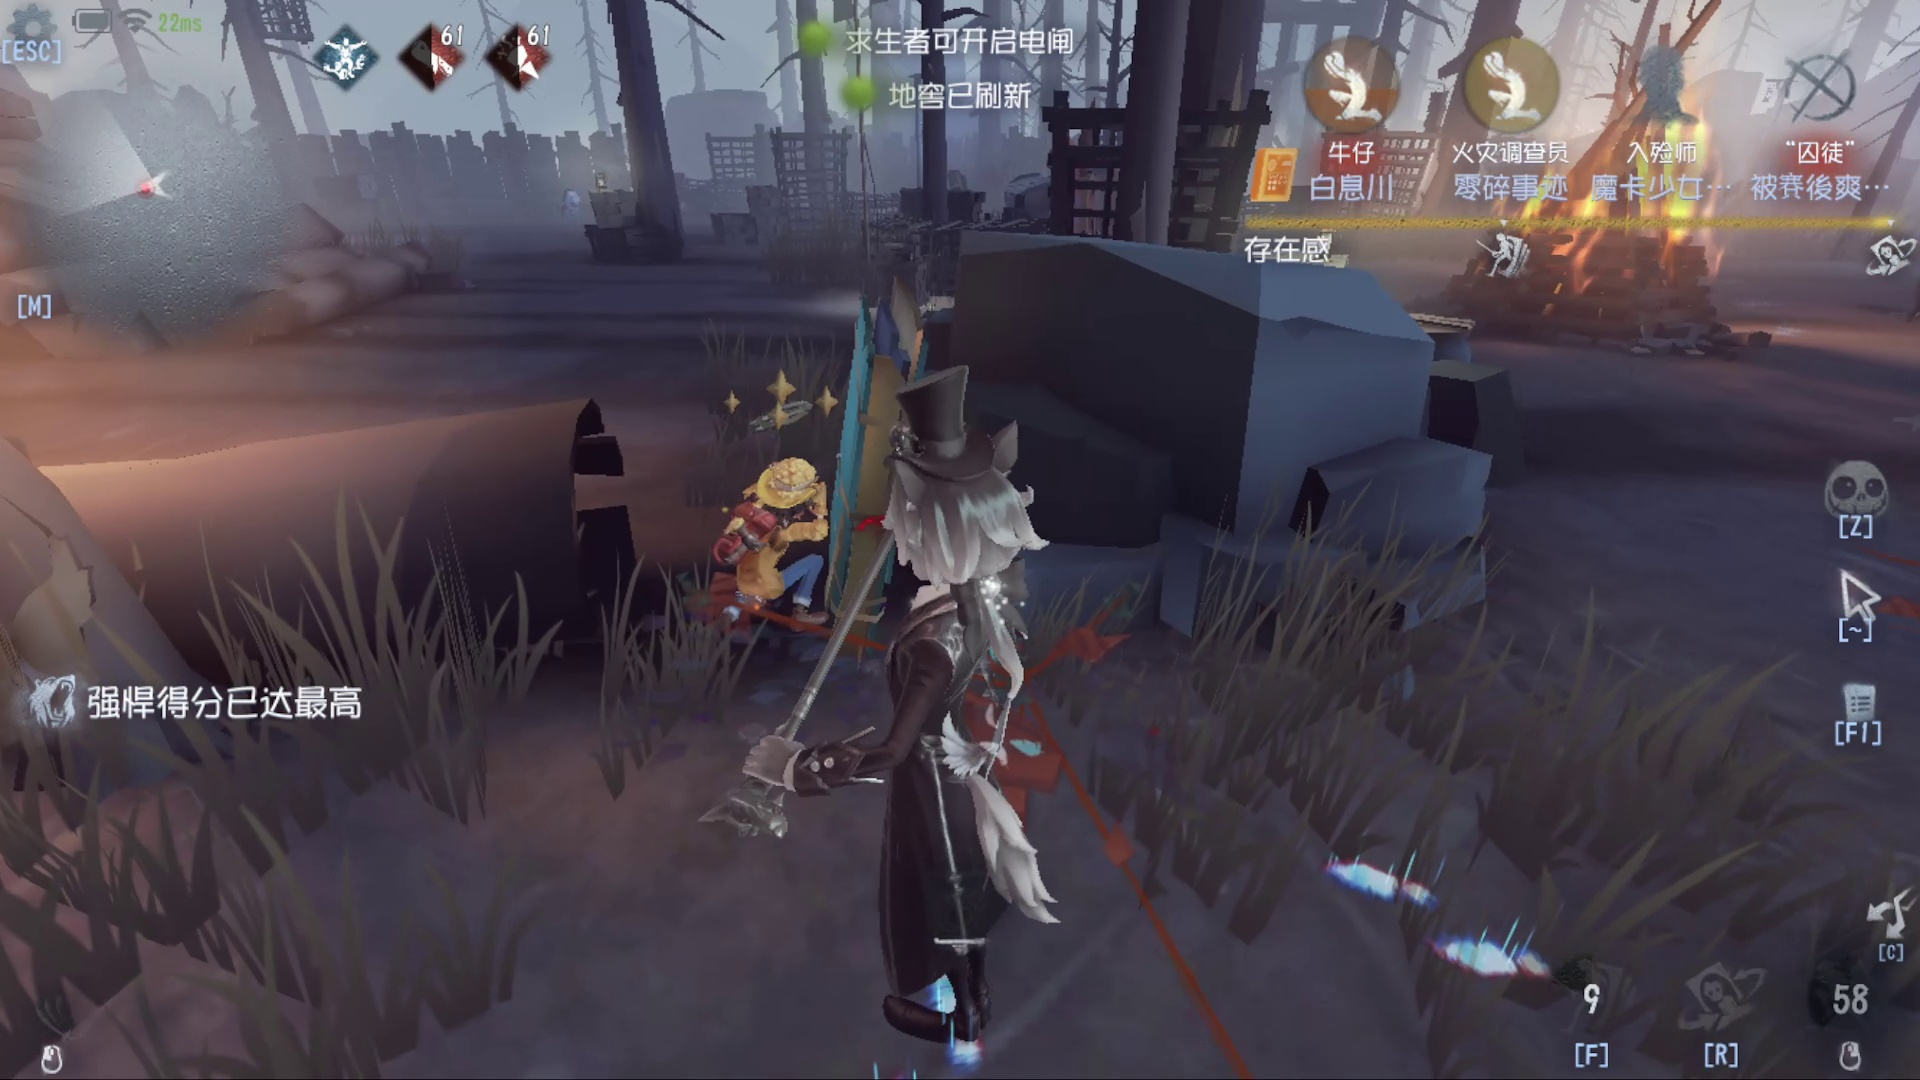木板: (804, 295, 927, 646)
求生者: (680, 392, 818, 650)
